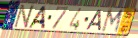4: (68, 7, 82, 31)
7: (51, 6, 70, 31)
A: (26, 5, 48, 30), (84, 9, 103, 32)
M: (100, 9, 125, 34)
N: (13, 4, 37, 30)
